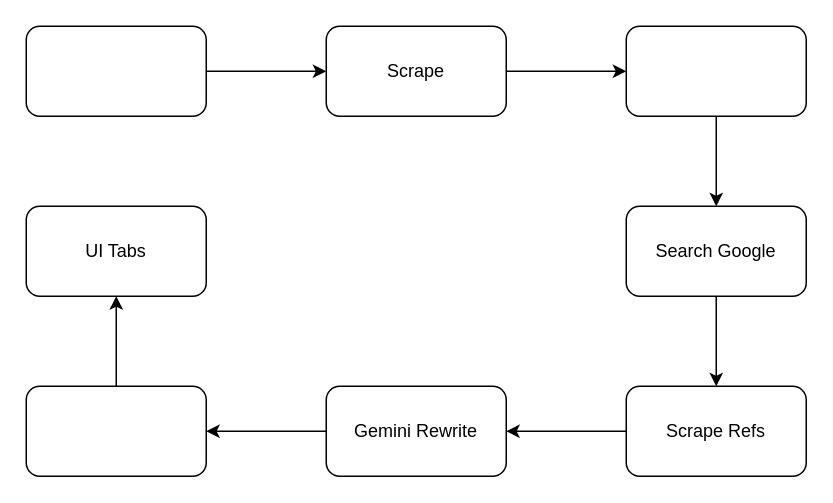
This 833x503 diagram has some shape labels left out. Here are the shapes that lost their labels. From the top down, the centre of each, then its label:
(115,70): Blogs
(715,70): Store
(115,430): Update
